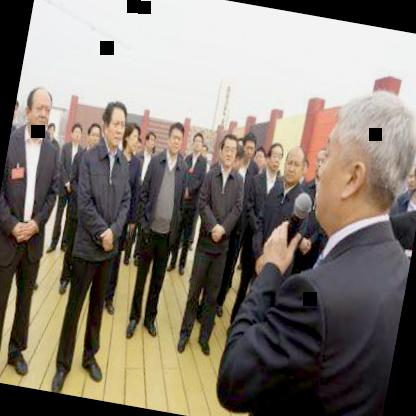head: (305, 77, 416, 259), (20, 79, 58, 136), (101, 98, 130, 152), (280, 144, 308, 191), (214, 129, 239, 169), (119, 118, 144, 155), (164, 119, 186, 154), (264, 140, 286, 172), (82, 121, 102, 153), (240, 129, 258, 162), (250, 144, 268, 173), (66, 120, 84, 146), (190, 128, 206, 154), (143, 128, 159, 154), (11, 94, 22, 128), (410, 150, 416, 194)
